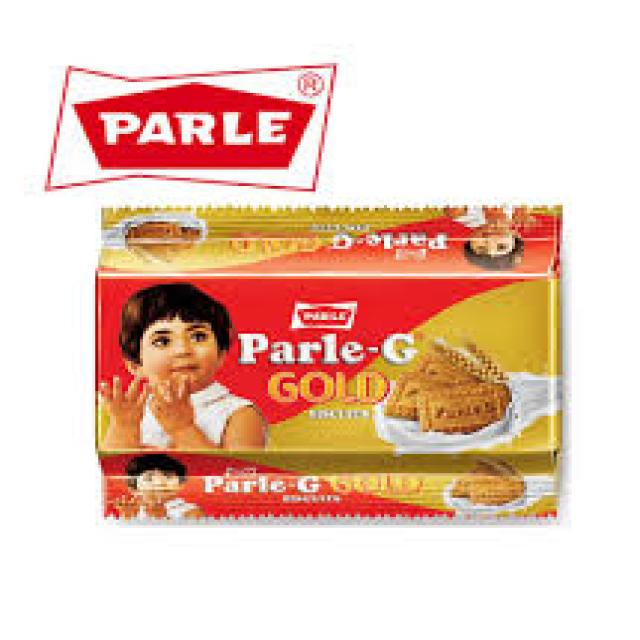parle-g: (94, 207, 568, 522)
